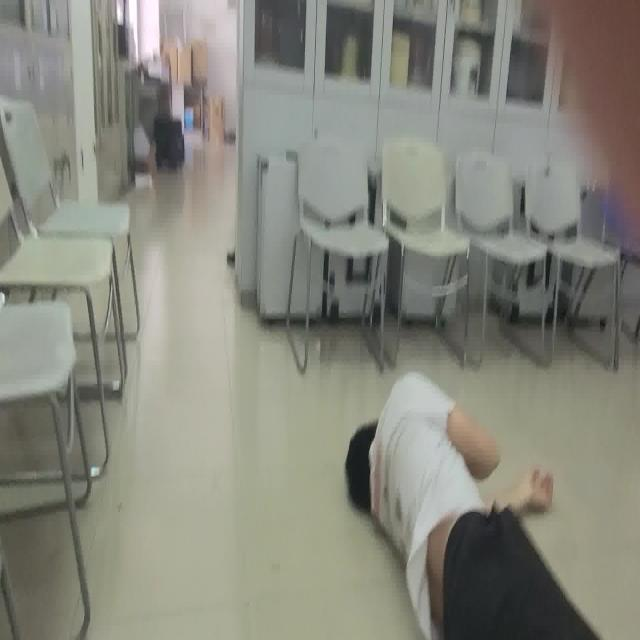fall: (343, 366, 607, 640)
